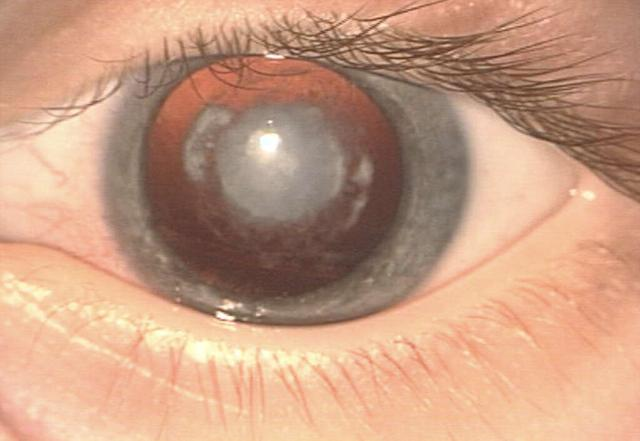eye: (102, 46, 474, 330)
